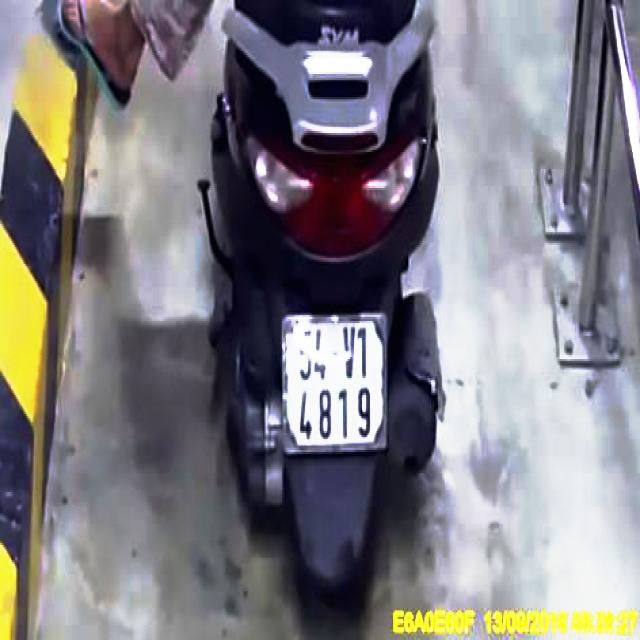license_plate: (286, 317, 389, 452)
